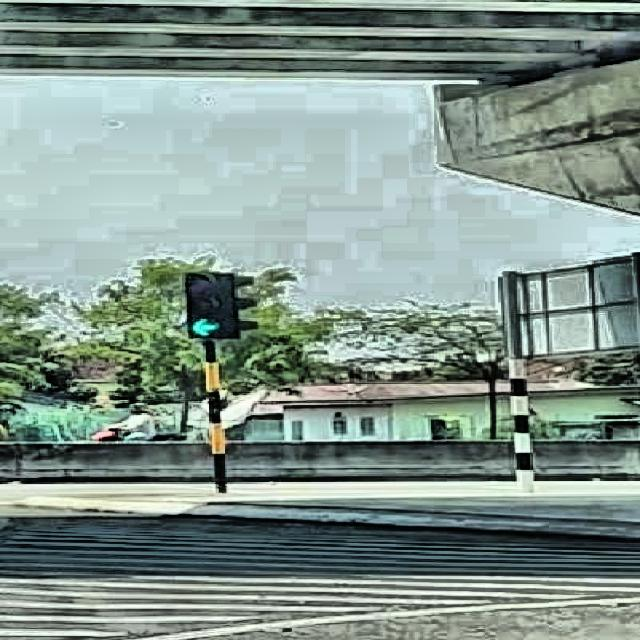green: (184, 272, 218, 338)
